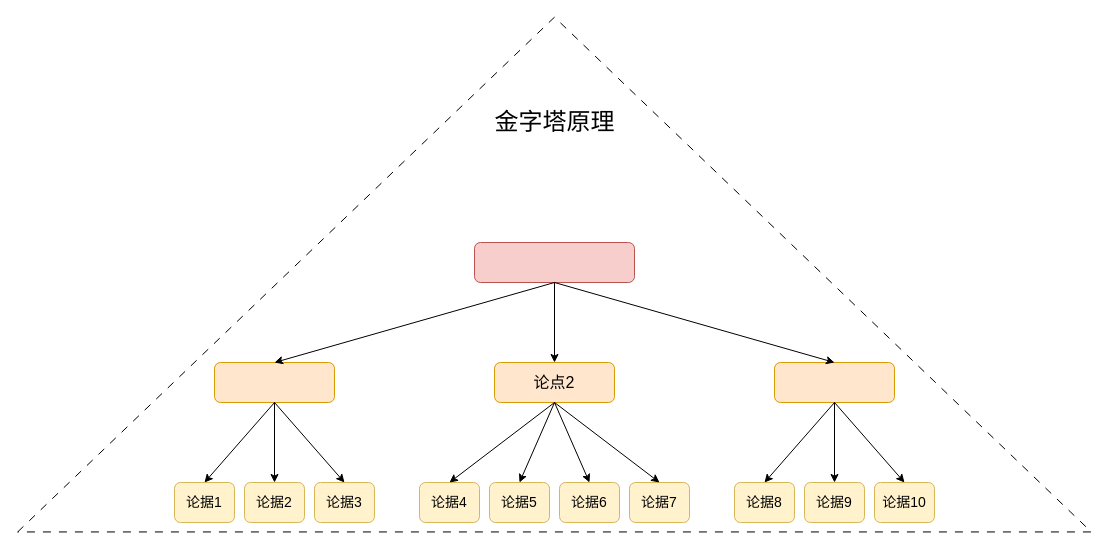
The diagram is 1109 pixels wide and 550 high, and some of its shapes have lost their labels. The shapes that lost their labels are listed below. From the top down, each one's box as (x1, y1, x2, y2) in pixels, then its label:
(474, 242, 634, 282): 中心思想
(214, 362, 334, 402): 论点1
(774, 362, 894, 402): 论点3
